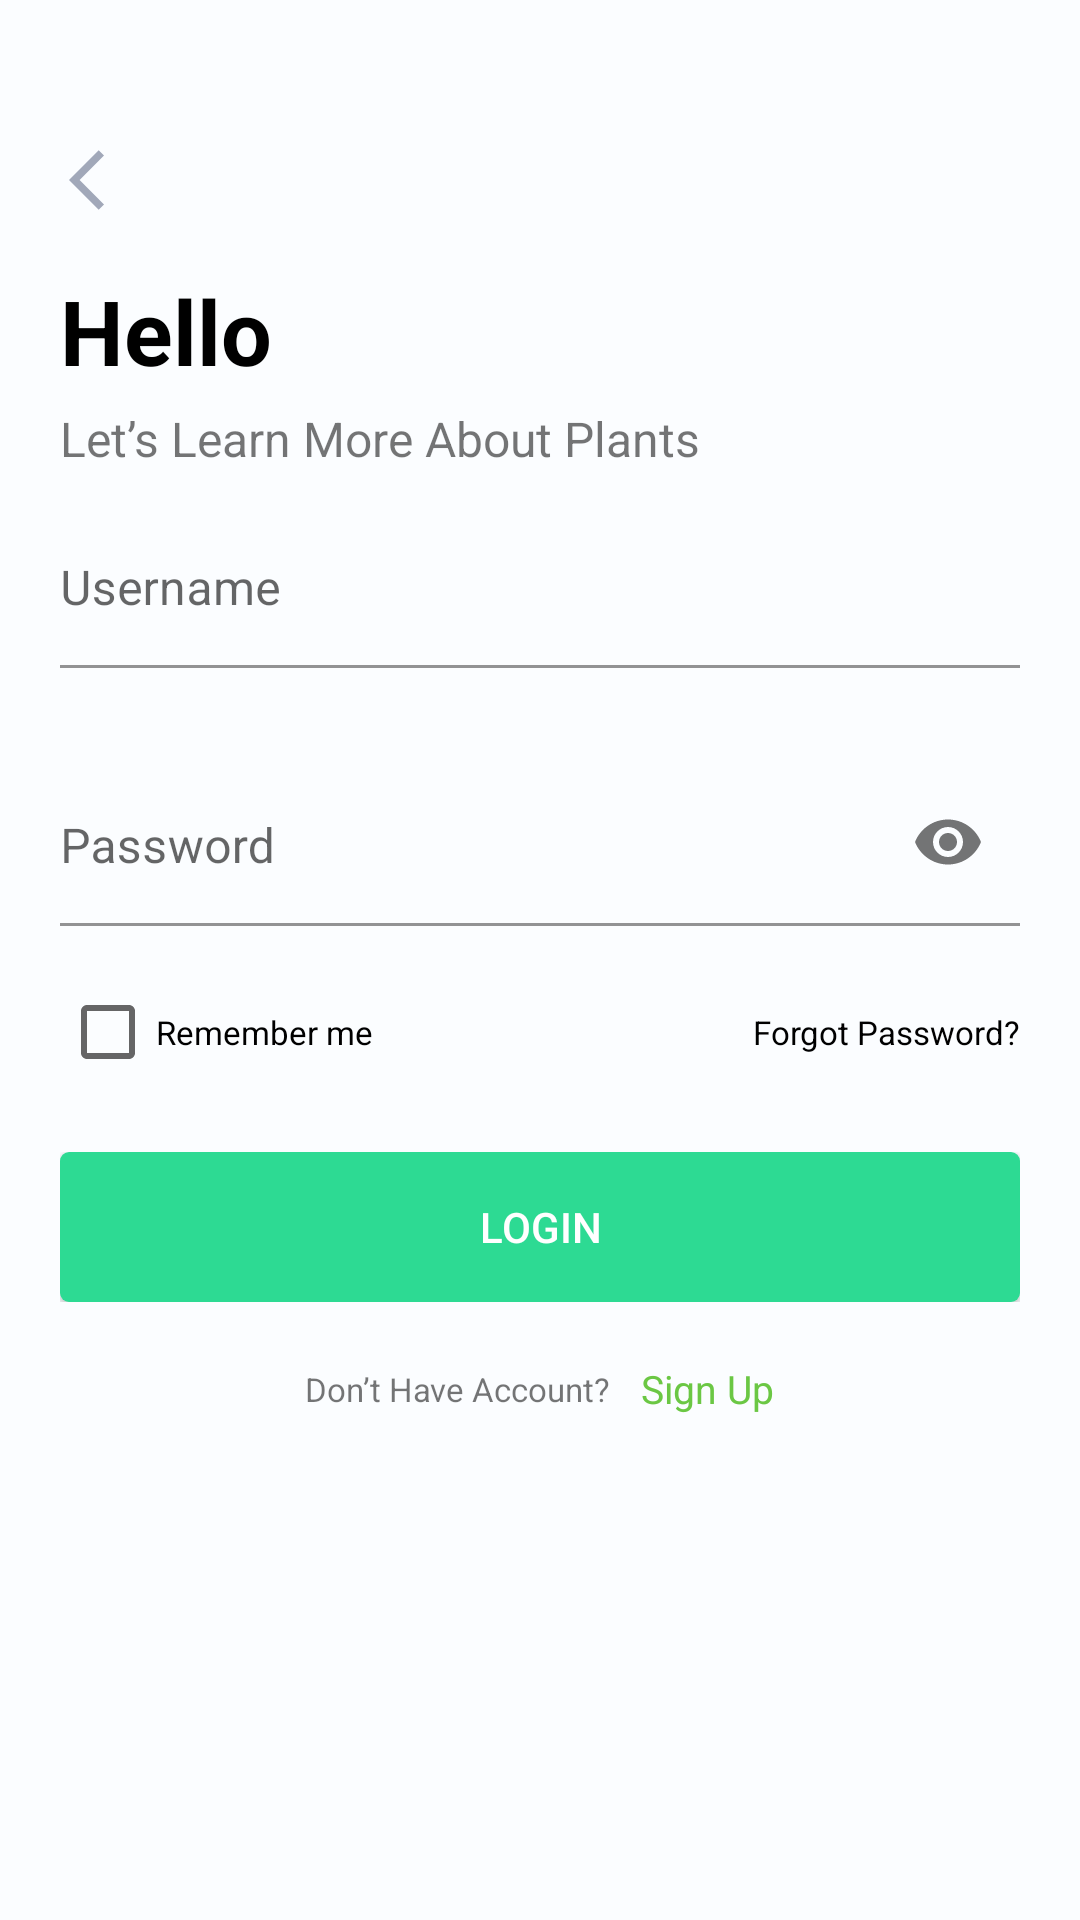

Where to tap for icons on this 1080px x 1920px app screen, as [x,y]:
back: [86,180]
